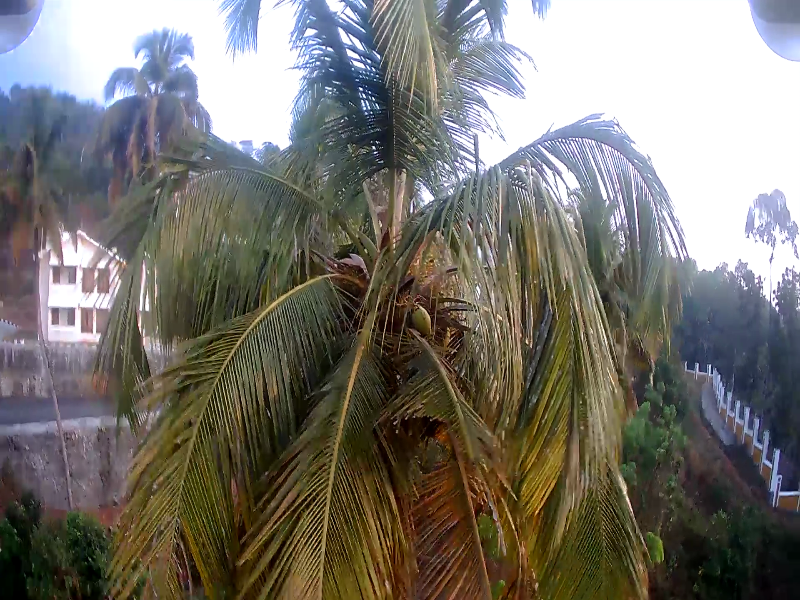coconut: (408, 300, 430, 333)
